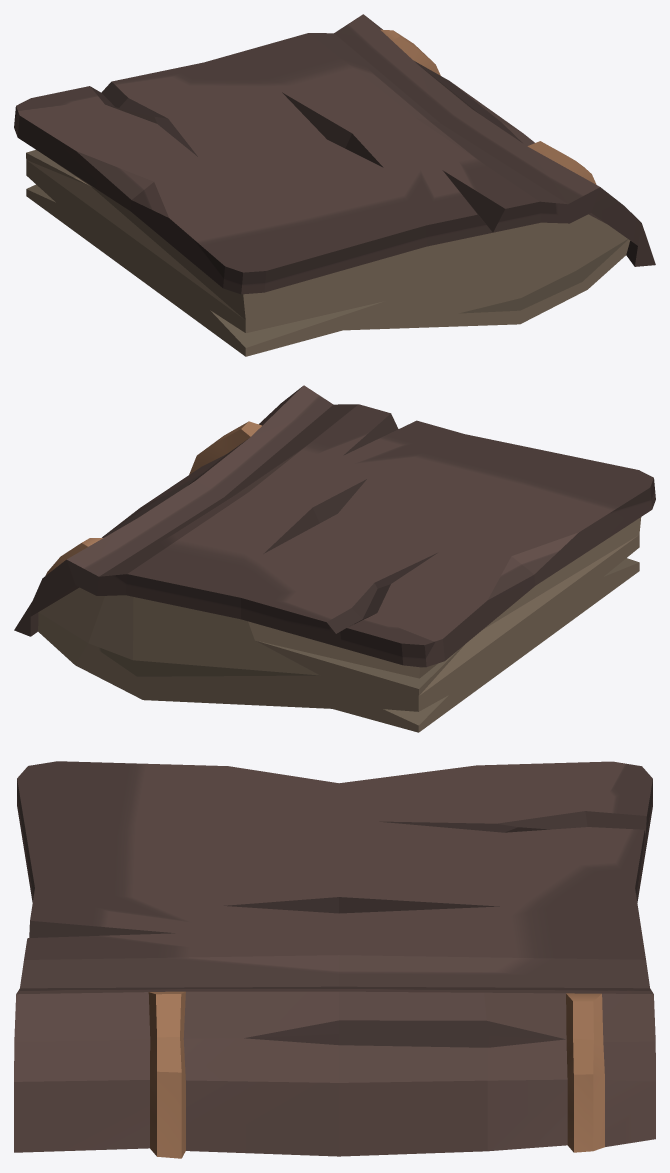
The model's file is InventoryBookTop.fbx.
3 renders of one model, top to bottom at view 1: azimuth 30°, elevation 25°; view 2: azimuth 150°, elevation 25°; view 3: azimuth 270°, elevation 25°, orthographic. The views are drawn at different scales.
Visible parts, largest first — view 1: SM_Prop_Book_Top; view 2: SM_Prop_Book_Top; view 3: SM_Prop_Book_Top.
Part boxes in pixels (bbox=[...]): SM_Prop_Book_Top: bbox=[14, 14, 655, 356]; SM_Prop_Book_Top: bbox=[14, 385, 655, 732]; SM_Prop_Book_Top: bbox=[14, 761, 655, 1158].
Bounding box in the file's own units: 29.36 × 8.5 × 28.38.
